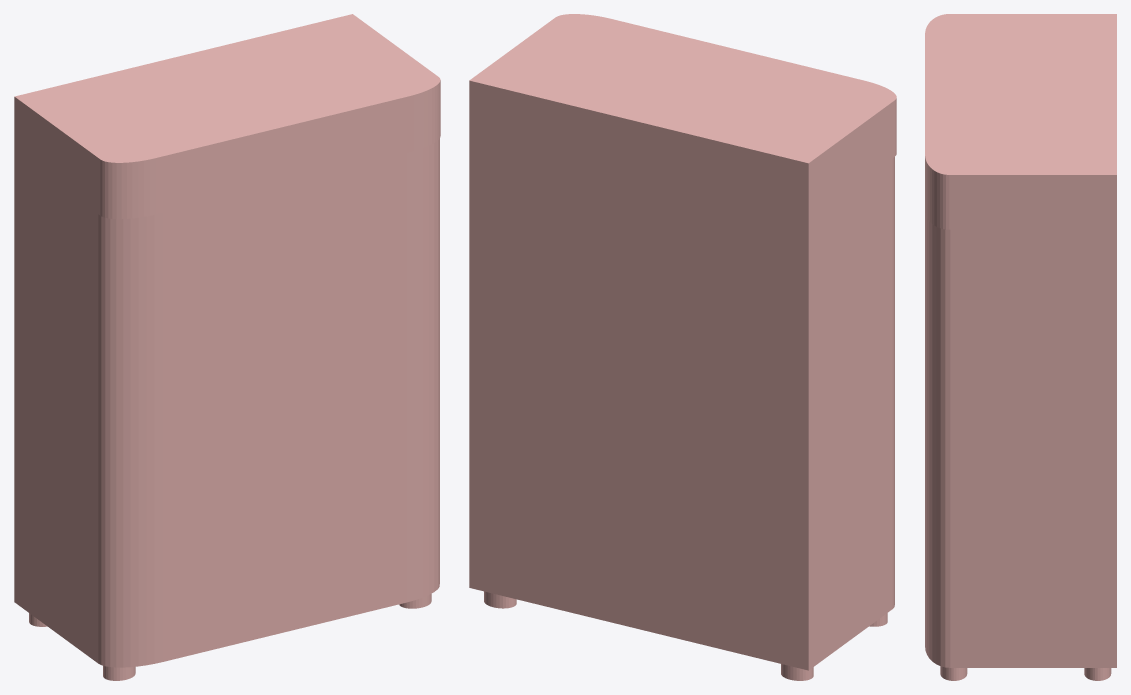
File: Cesto.obj
3 renders of one model, left to right at view 1: azimuth 30°, elevation 25°; view 2: azimuth 150°, elevation 25°; view 3: azimuth 270°, elevation 25°, orthographic. The views are drawn at different scales.
Parts seen in each view (by area): view 1: Cube.009_Cube.020; view 2: Cube.009_Cube.020; view 3: Cube.009_Cube.020.
Part boxes in pixels (x1=…): Cube.009_Cube.020: x1=14, y1=14, x2=440, y2=680; Cube.009_Cube.020: x1=469, y1=14, x2=896, y2=680; Cube.009_Cube.020: x1=925, y1=14, x2=1116, y2=680.
Bounding box in the file's own units: 3.49 × 5.15 × 1.76.
Materials: 1 (1 with a texture image).
